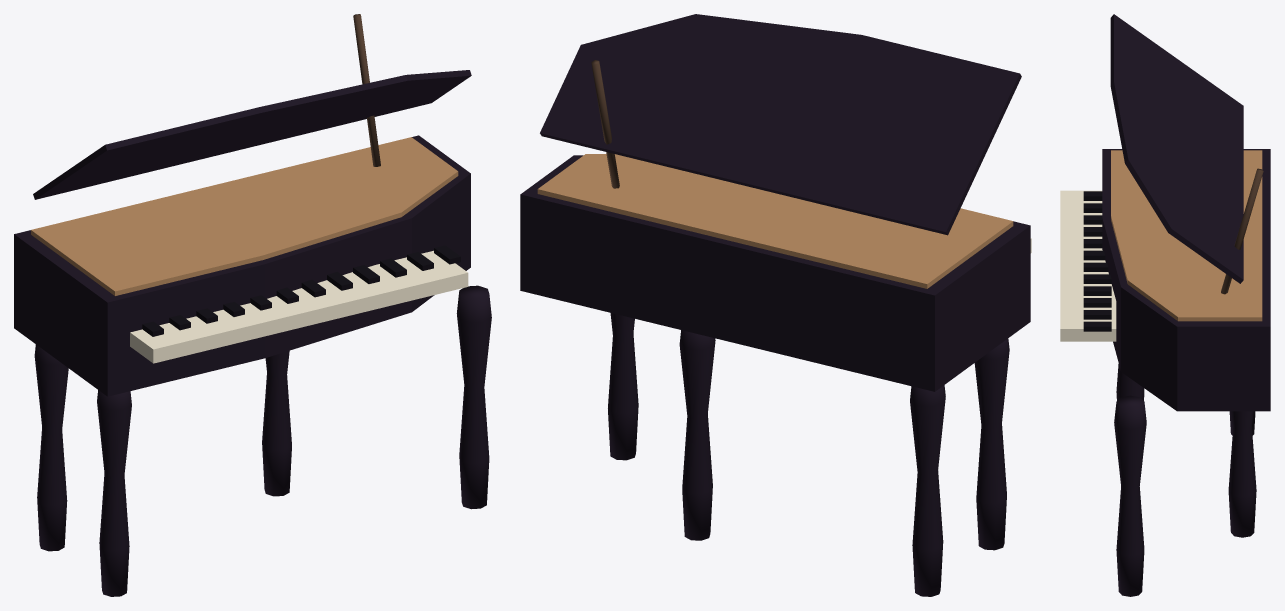
The model's file is harpsichord.glb.
3 views of the same model, side by side, from view 1: azimuth 30°, elevation 25°; view 2: azimuth 150°, elevation 25°; view 3: azimuth 270°, elevation 25° (orthographic). The views are drawn at different scales.
Visible parts, largest first — view 1: harpsichord; view 2: harpsichord; view 3: harpsichord.
Part boxes in pixels (box(x1,y1,x2,y2)): harpsichord: box(14, 14, 491, 596); harpsichord: box(520, 14, 1031, 596); harpsichord: box(1060, 14, 1270, 596).
Bounding box in the file's own units: 0.9 × 0.9733 × 0.45.
